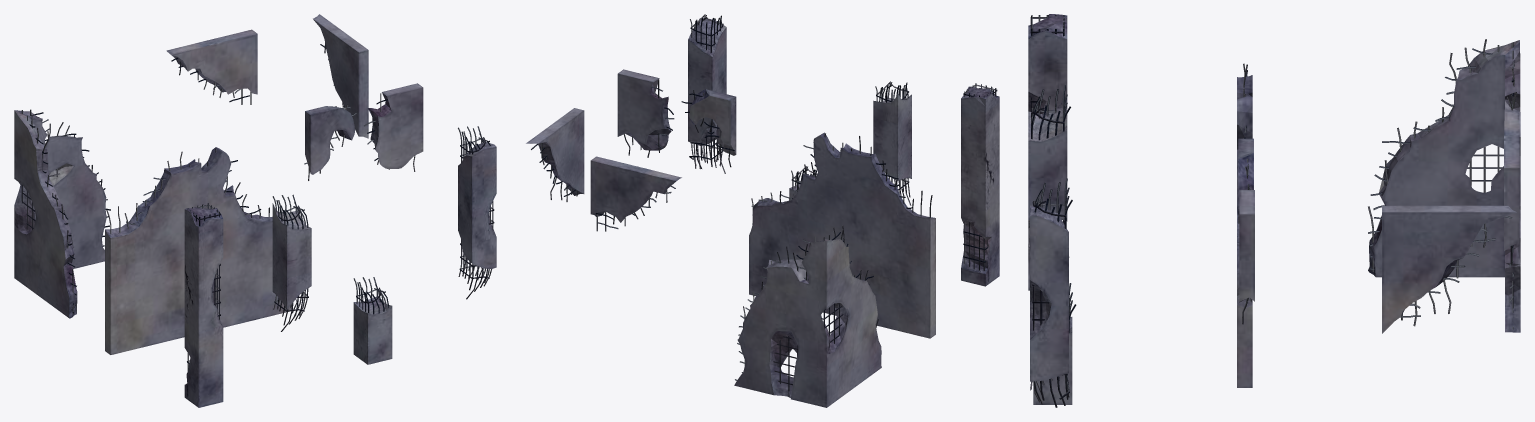
Rendered from concrete_debris.glb.
3 renders of one model, left to right at view 1: azimuth 30°, elevation 25°; view 2: azimuth 150°, elevation 25°; view 3: azimuth 270°, elevation 25°, orthographic. The views are drawn at different scales.
Parts seen in each view (by area): view 1: concrete_debris; view 2: concrete_debris; view 3: concrete_debris.
Part boxes in pixels (x1,y1,x2,y2): concrete_debris: (14, 14, 496, 407); concrete_debris: (526, 14, 999, 407); concrete_debris: (1028, 14, 1520, 407).
Bounding box in the file's own units: 2.6 × 1.61 × 2.57.
1 material, 1 textured.
